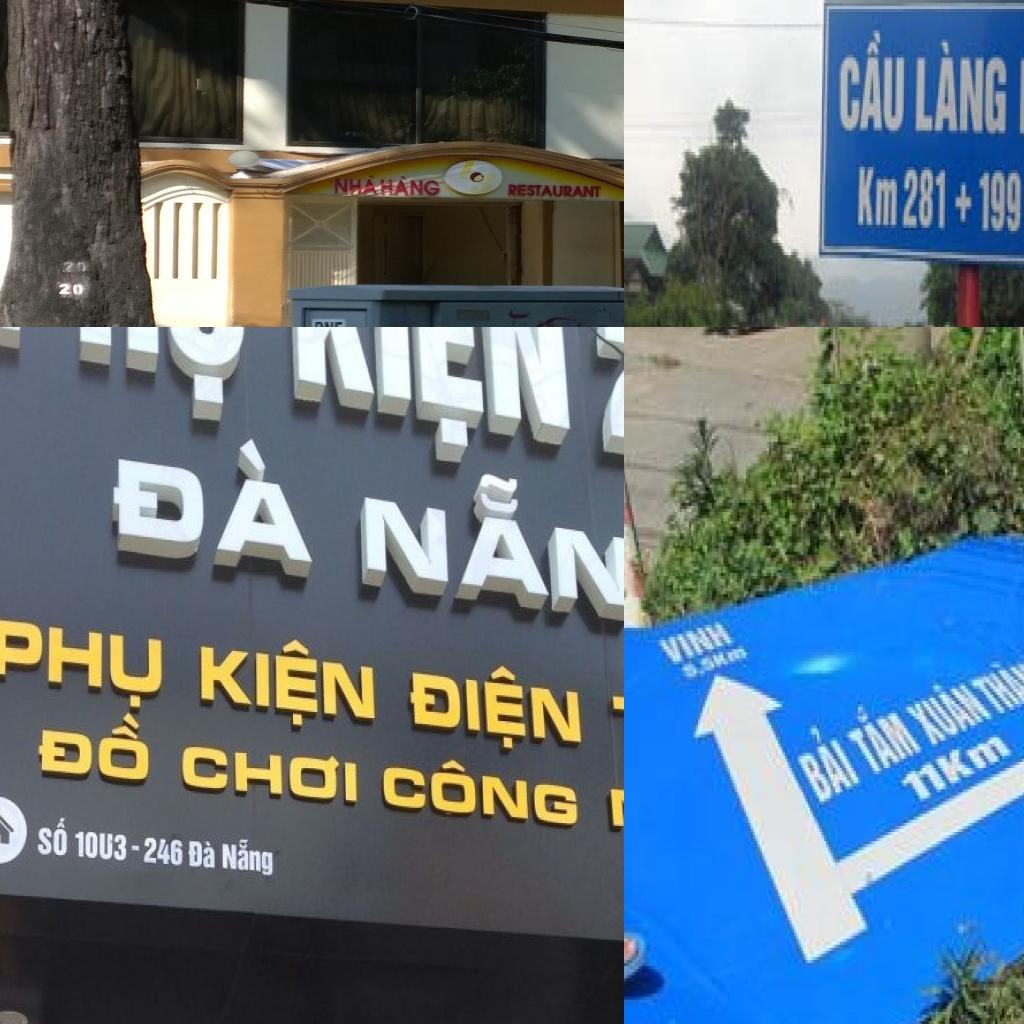text: (342, 455, 624, 645), (269, 327, 587, 474), (102, 418, 337, 595), (0, 327, 255, 436), (399, 650, 590, 766), (190, 624, 386, 733), (374, 736, 589, 834), (0, 611, 172, 719), (169, 721, 368, 809), (26, 704, 163, 805), (912, 36, 1010, 143), (782, 707, 872, 820), (897, 661, 1000, 756), (833, 686, 929, 786), (836, 27, 909, 140), (960, 646, 1024, 725), (654, 616, 737, 670), (899, 161, 950, 237), (678, 640, 755, 689), (219, 829, 278, 889), (977, 167, 1024, 240), (856, 161, 901, 234), (72, 819, 133, 867), (139, 828, 186, 870), (32, 806, 68, 860), (185, 826, 219, 875), (506, 184, 602, 198), (379, 176, 441, 196), (332, 174, 380, 196), (58, 284, 84, 296), (313, 321, 343, 327)
